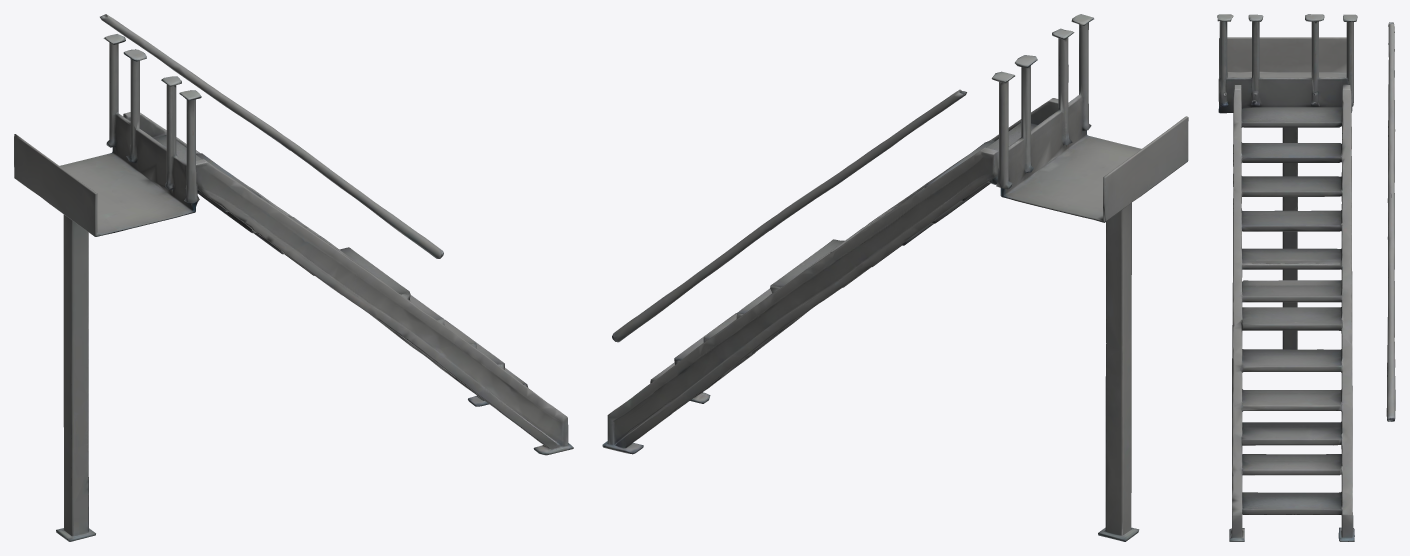
The model's file is metalStair.fbx.
3 views of the same model, side by side, from view 1: azimuth 30°, elevation 25°; view 2: azimuth 150°, elevation 25°; view 3: azimuth 270°, elevation 25° (orthographic). The views are drawn at different scales.
Visible parts, largest first — view 1: tripo_node_223f8234; view 2: tripo_node_223f8234; view 3: tripo_node_223f8234.
Boxes of the visible parts, bbox=[...] form: tripo_node_223f8234: bbox=[14, 14, 573, 541]; tripo_node_223f8234: bbox=[602, 14, 1188, 541]; tripo_node_223f8234: bbox=[1217, 14, 1395, 541].
Size of the model in its own units: 0.9999 by 0.8892 by 0.3869.
1 material, 1 textured.
